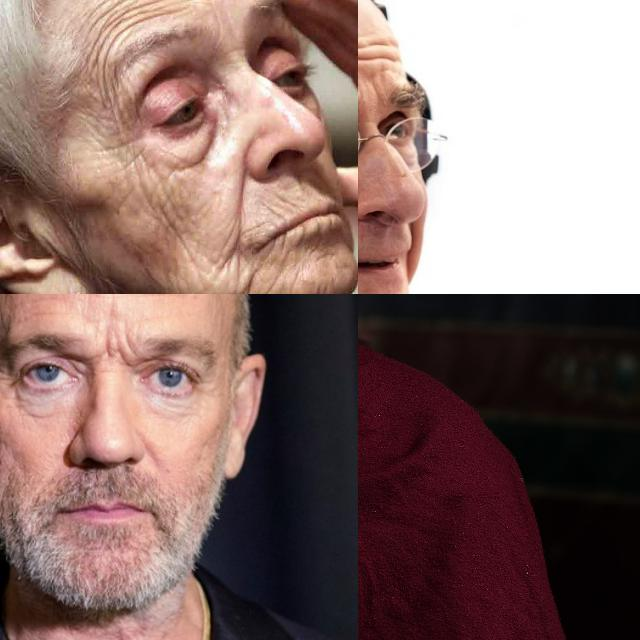crows_feet: (114, 125, 148, 161), (0, 361, 21, 390)
forehead: (82, 8, 118, 56), (361, 33, 397, 69), (92, 64, 120, 104), (121, 0, 175, 20), (139, 294, 180, 304), (101, 294, 121, 312)
frown_line: (92, 334, 134, 366)
gummy_smile: (231, 180, 251, 237)
masseter: (151, 198, 187, 256)
sad_smile: (229, 269, 261, 294)
smoker_lines: (273, 190, 303, 210)
